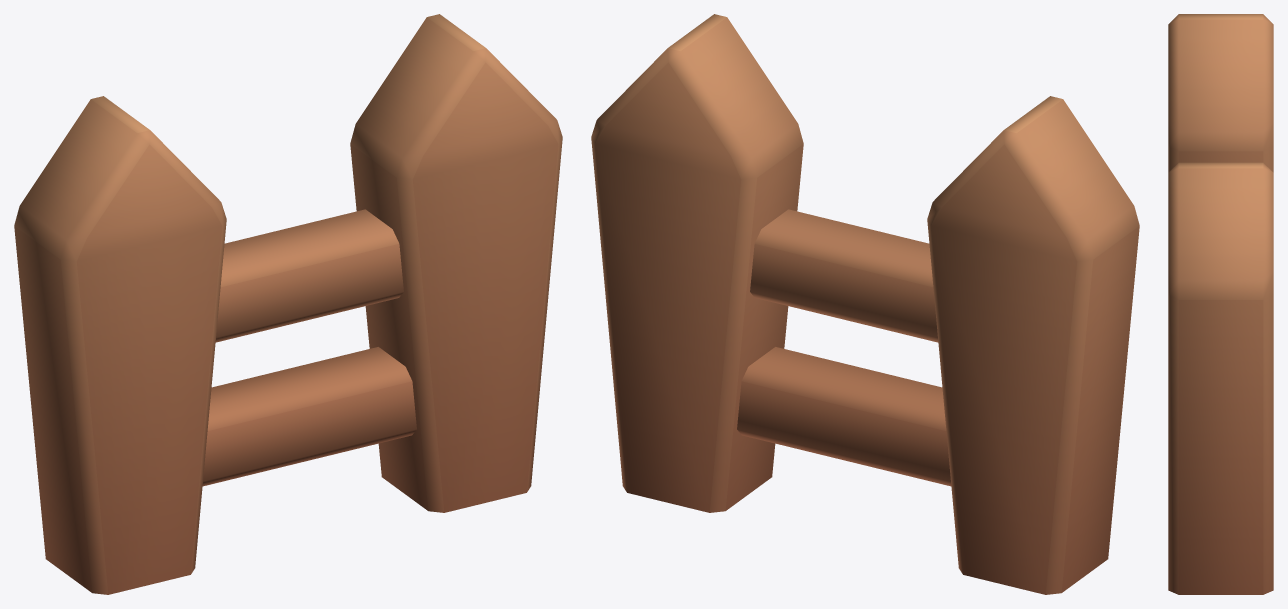
Rendered from fence_straight.fbx.
The picture shows the model from 3 angles, left to right: view 1: azimuth 30°, elevation 25°; view 2: azimuth 150°, elevation 25°; view 3: azimuth 270°, elevation 25°; orthographic projection. The views are drawn at different scales.
Visible parts, largest first — view 1: fence_straight; view 2: fence_straight; view 3: fence_straight.
Part boxes in pixels (x1,y1,x2,y2): fence_straight: (14, 14, 562, 594); fence_straight: (591, 14, 1139, 594); fence_straight: (1168, 14, 1273, 594).
Size of the model in its own units: 1.49 by 1.28 by 0.3.
